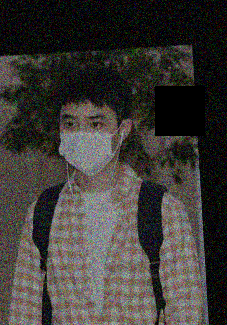with_mask: (60, 109, 120, 177)
